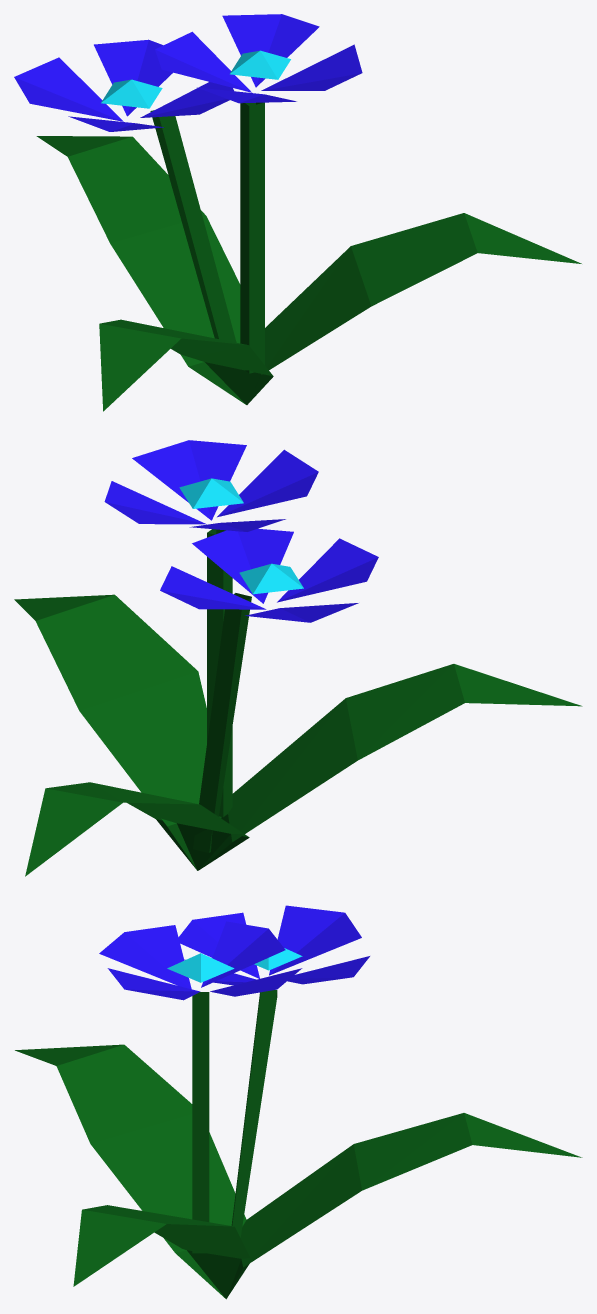
Rendered from obj_flower_2_0.obj.
3 renders of one model, top to bottom at view 1: azimuth 30°, elevation 25°; view 2: azimuth 150°, elevation 25°; view 3: azimuth 270°, elevation 25°, orthographic. The views are drawn at different scales.
Bounding box in the file's own units: 0.5156 × 0.3516 × 0.5234.
